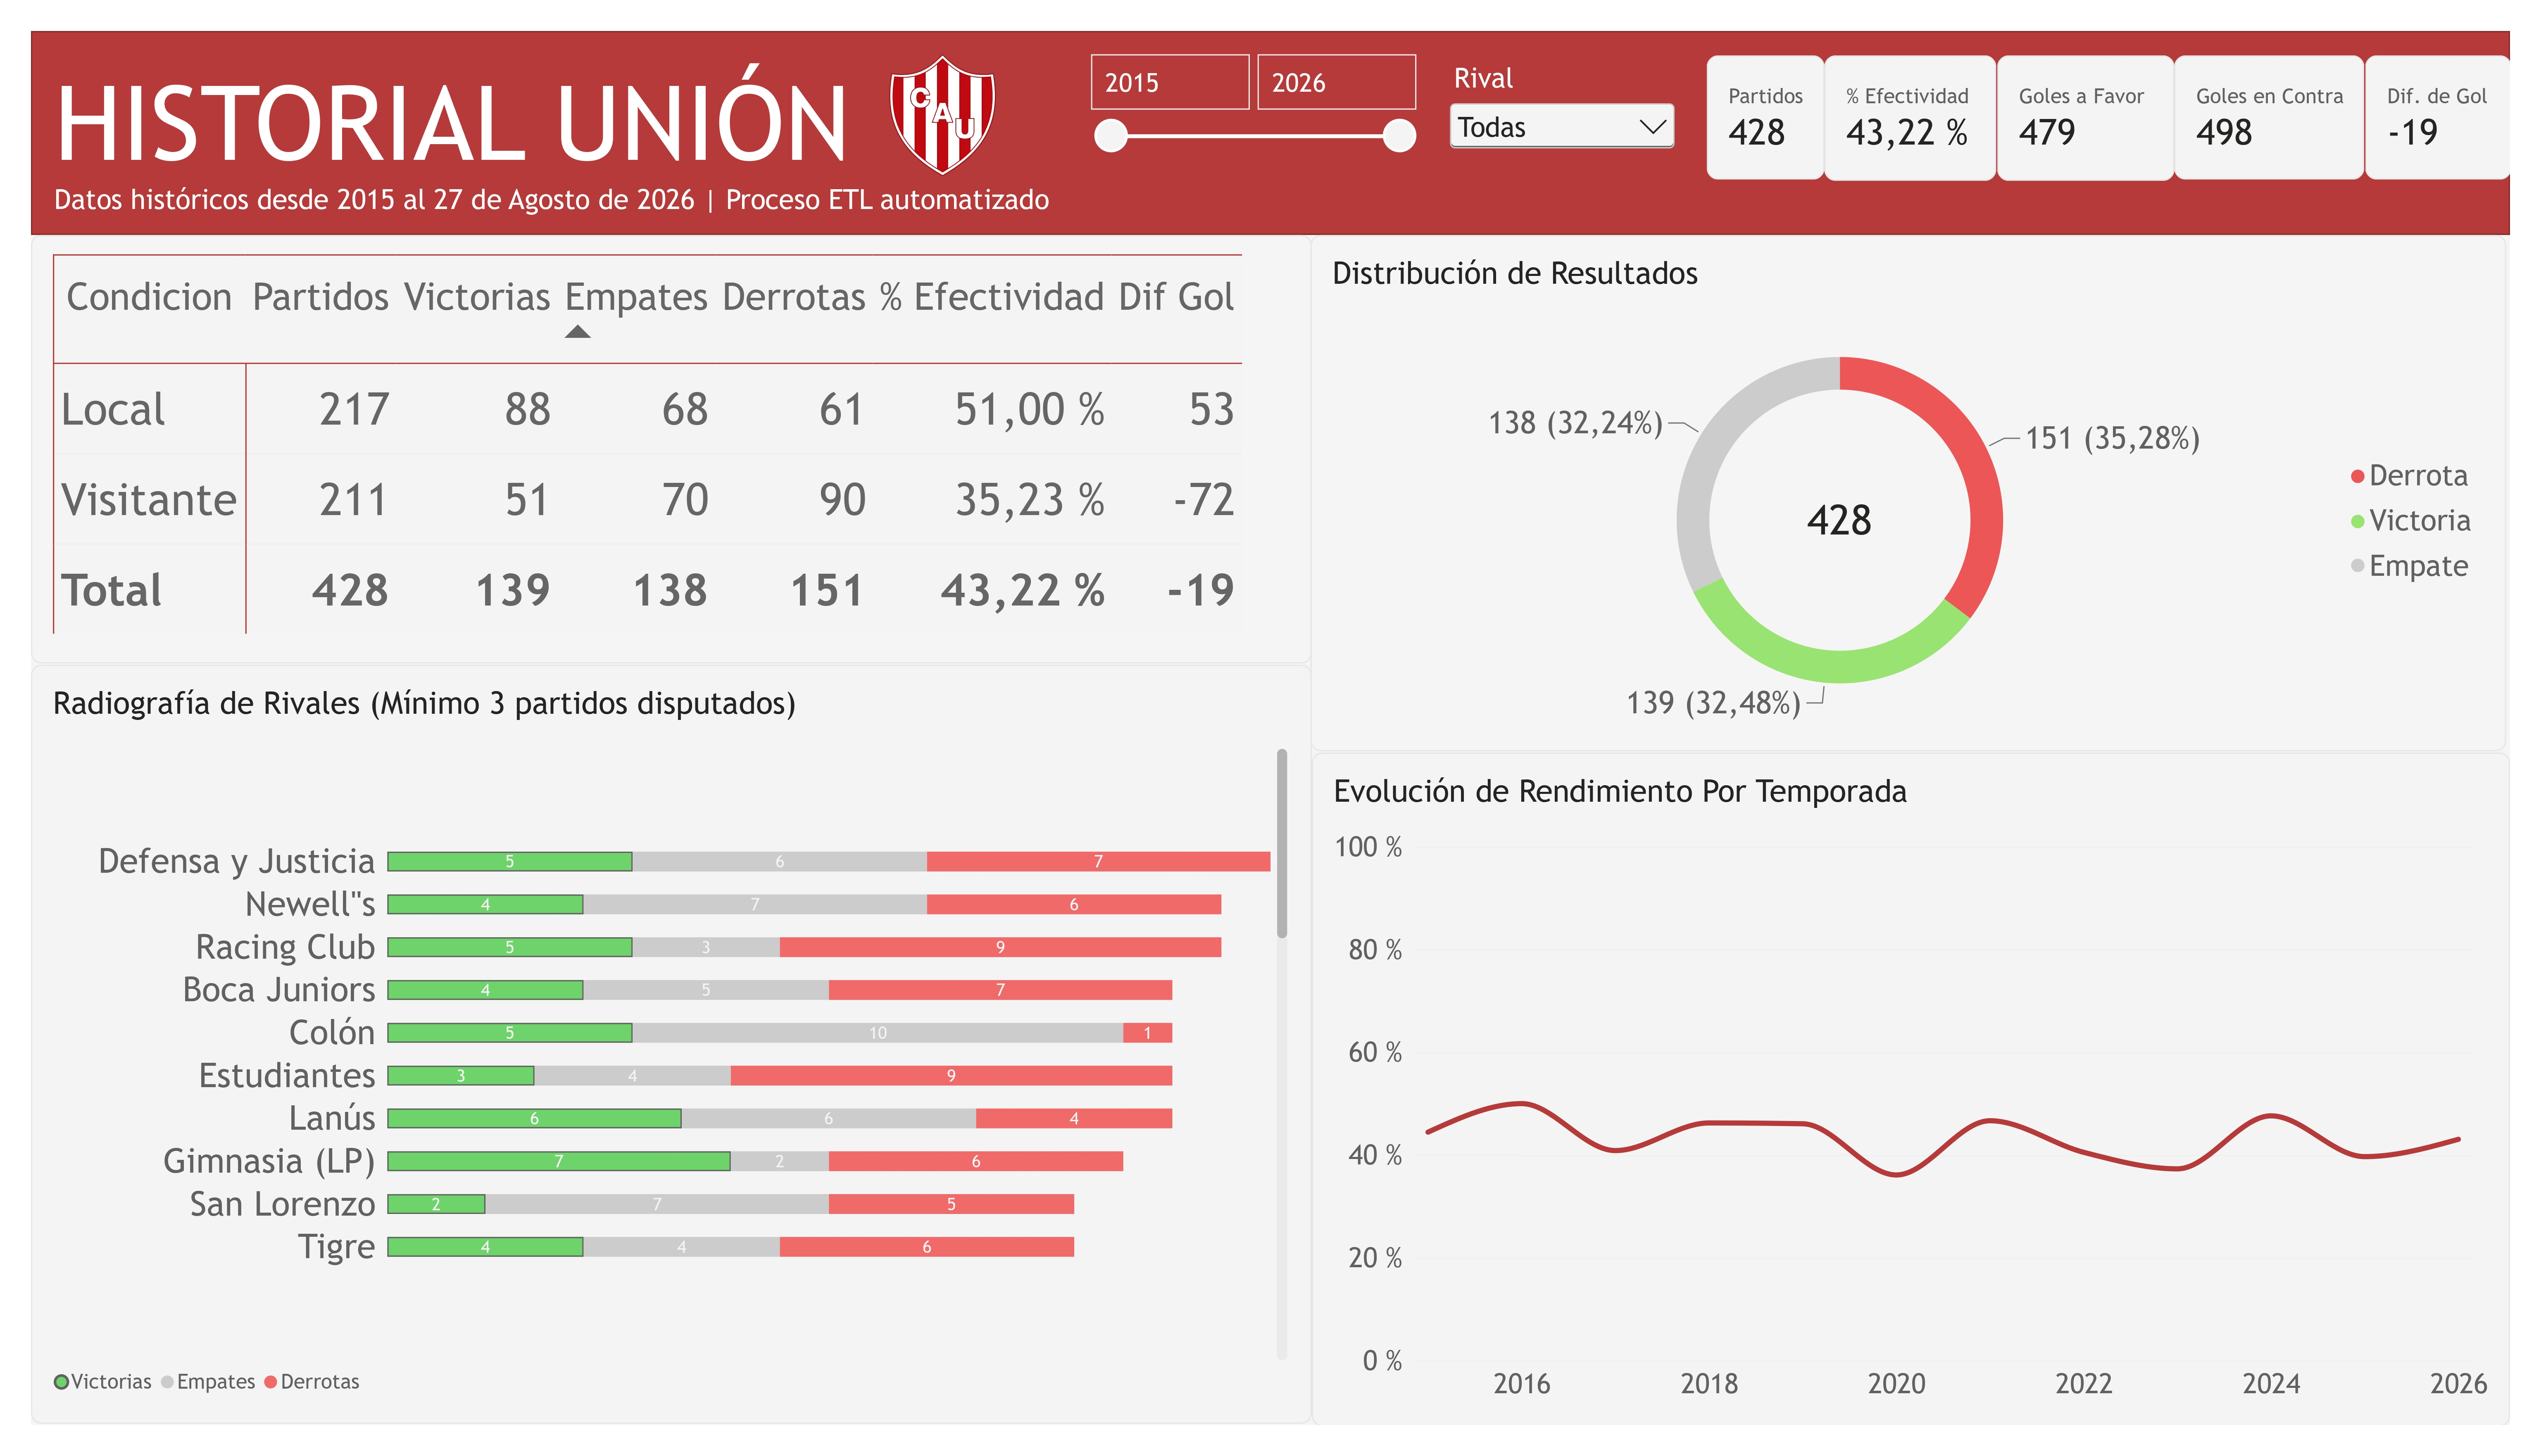

This screenshot's page, from the dashboard's own definition file:
{"tool":"powerbi","page":{"name":"Página 1","canvas":[1920,1080],"ordinal":0},"visuals":[{"type":"shape","box":[0,0,1920,158],"z":0},{"type":"pivotTable","fields":{"Rows":["club_analytics historial_union.Condicion"],"Values":["club_analytics historial_union.Partidos","club_analytics historial_union.Victorias","club_analytics historial_union.Empates","club_analytics historial_union.Derrotas","club_analytics historial_union.% Efectividad","club_analytics historial_union.Dif Gol"]},"box":[0,158,992,332],"z":1000},{"type":"barChart","title":"Radiografía de Rivales (Mínimo 3 partidos disputados)","fields":{"Category":["club_analytics historial_union.Oponente"],"Y":["club_analytics historial_union.Victorias","club_analytics historial_union.Empates","club_analytics historial_union.Derrotas"]},"box":[0,491.1,992,588],"z":2000},{"type":"lineChart","title":"Evolución de Rendimiento Por Temporada","fields":{"Category":["club_analytics historial_union.Temporada"],"Y":["club_analytics historial_union.% Efectividad"]},"box":[992.1,558.7,928,522],"z":3000},{"type":"slicer","fields":{"Values":["club_analytics historial_union.Temporada"]},"box":[813.3,11.1,262.2,117.8],"z":4000},{"type":"slicer","fields":{"Values":["club_analytics historial_union.Oponente"]},"box":[1093.9,24.2,184.4,86.7],"z":5000},{"type":"cardVisual","fields":{"Data":["club_analytics historial_union.Dif Gol"]},"box":[1807.5,18.8,113.1,97],"z":6000},{"type":"cardVisual","fields":{"Data":["club_analytics historial_union.Partidos"]},"box":[1297.5,18.8,91.2,96.2],"z":7000},{"type":"cardVisual","fields":{"Data":["club_analytics historial_union.% Efectividad"]},"box":[1388.9,19.2,133.3,97.8],"z":8000},{"type":"textbox","box":[17.5,25,627.5,92.5],"z":9000},{"type":"image","box":[612.5,0,182.5,140],"z":10000},{"type":"donutChart","title":"Distribución de Resultados","fields":{"Category":["club_analytics historial_union.Tipo de Resultado"],"Y":["club_analytics historial_union.Partidos"]},"box":[991.1,157.8,926,400],"z":11000},{"type":"textbox","box":[17.6,117.6,777.6,40],"z":12000},{"type":"cardVisual","title":"Goles a favor","fields":{"Data":["Sum(club_analytics historial_union.Goles_Union)"]},"box":[1522.5,18.8,137.8,97.8],"z":13000},{"type":"cardVisual","fields":{"Data":["Sum(club_analytics historial_union.Goles_Rival)"]},"box":[1660,18.8,147.5,97],"z":14000}]}

Visuals, with their boxes on the page's 1920x1080 design canvas (x1, y1, x2, y2). These are canvas units, not pixel positions in the 2541x1456 screenshot, which may show the page scaled, cropped or inside an application window:
shape: crop(0, 0, 1920, 158)
pivotTable - club_analytics historial_union.Condicion x club_analytics historial_union.Partidos: crop(0, 158, 992, 490)
"Radiografía de Rivales (Mínimo 3 partidos disputados)" barChart: crop(0, 491, 992, 1079)
"Evolución de Rendimiento Por Temporada" lineChart: crop(992, 559, 1920, 1081)
slicer - club_analytics historial_union.Temporada: crop(813, 11, 1076, 129)
slicer - club_analytics historial_union.Oponente: crop(1094, 24, 1278, 111)
cardVisual - club_analytics historial_union.Dif Gol: crop(1808, 19, 1921, 116)
cardVisual - club_analytics historial_union.Partidos: crop(1298, 19, 1389, 115)
cardVisual - club_analytics historial_union.% Efectividad: crop(1389, 19, 1522, 117)
textbox: crop(18, 25, 645, 118)
image: crop(612, 0, 795, 140)
"Distribución de Resultados" donutChart: crop(991, 158, 1917, 558)
textbox: crop(18, 118, 795, 158)
"Goles a favor" cardVisual: crop(1522, 19, 1660, 117)
cardVisual - Sum(club_analytics historial_union.Goles_Rival): crop(1660, 19, 1808, 116)
